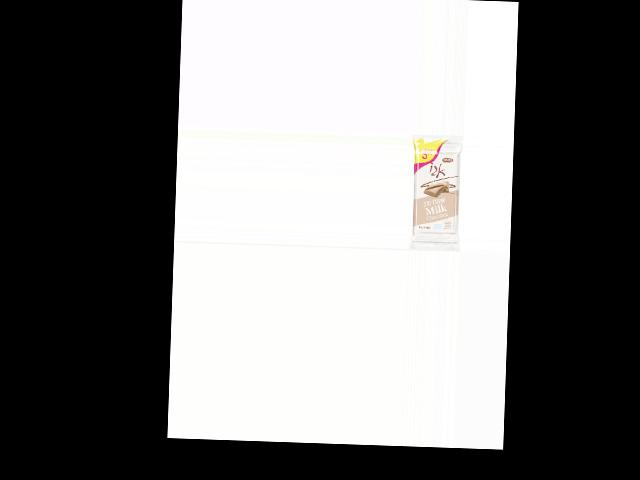chocolate: (409, 134, 464, 241)
